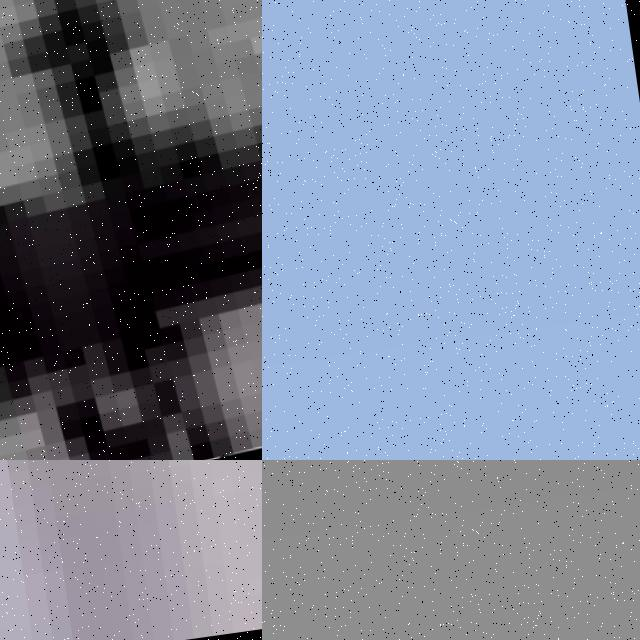0: (0, 0, 262, 460)
drone: (0, 460, 262, 501)
